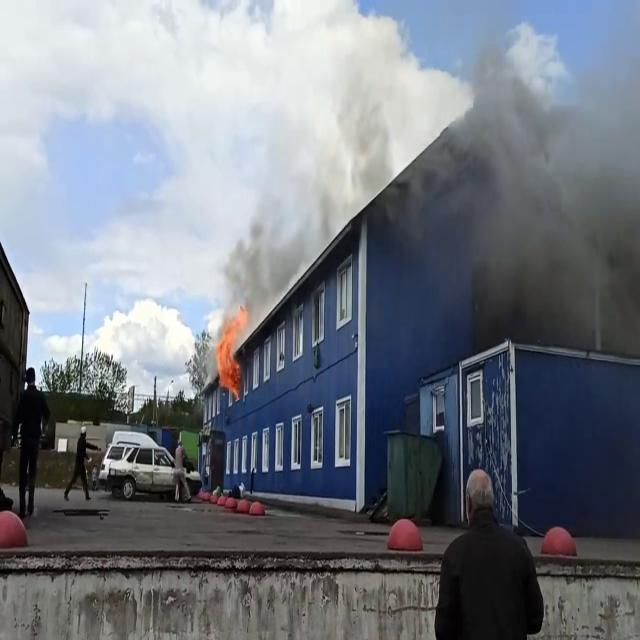Fire: (211, 322, 243, 400)
Smoke: (412, 11, 640, 357), (311, 44, 404, 254), (218, 183, 320, 331)
